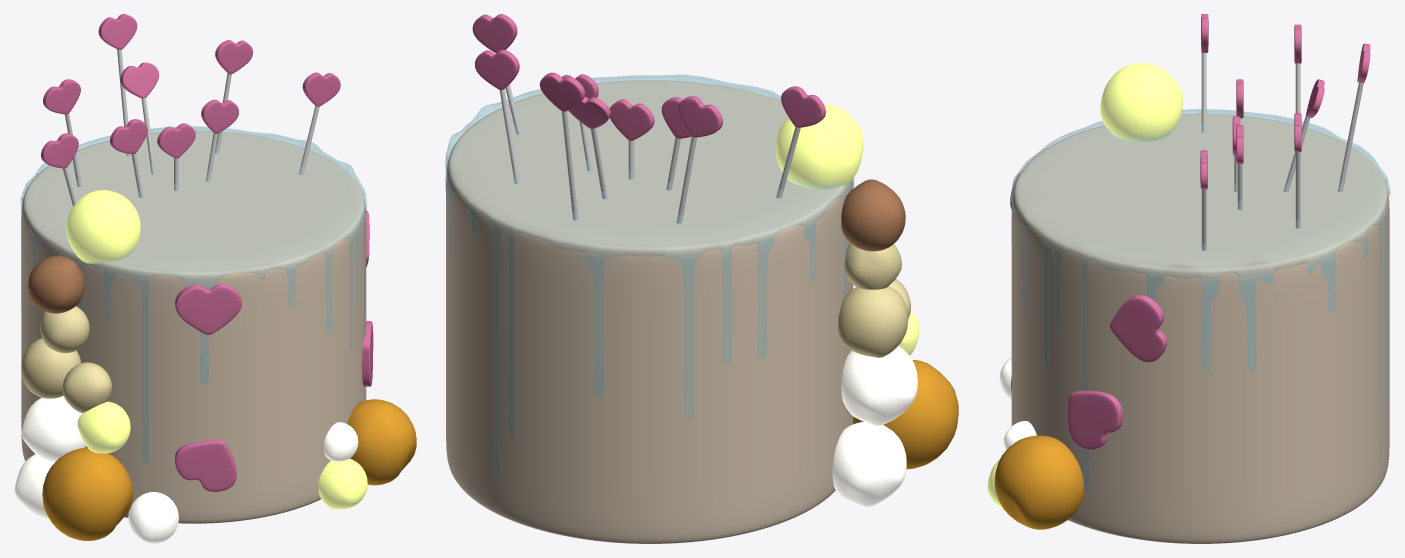
The model's file is Cake_Layer_1_Cream_Topper1_Hearts_BlueDrip.glb.
3 views of the same model, side by side, from view 1: azimuth 30°, elevation 25°; view 2: azimuth 150°, elevation 25°; view 3: azimuth 270°, elevation 25° (orthographic). The views are drawn at different scales.
Visible parts, largest first — view 1: Circle, Circle.001, Sphere, Sphere.015, Sphere.026, Sphere.002, Sphere.006, Star.003, Star.002, Sphere.005, Sphere.003, Sphere.001 (+15 smaller); view 2: Circle, Circle.001, Sphere.015, Sphere.013, Sphere.002, Sphere, Sphere.005, Sphere.006, Sphere.010, Star.006, Star.005, Star.009 (+6 smaller); view 3: Circle, Circle.001, Sphere.026, Sphere.015, Star.001, Star.004, Cylinder.049, Sphere.027.
Part boxes in pixels (x1,y1,x2,y2): Circle: (21,130,366,523); Circle.001: (21,126,366,463); Sphere: (42,448,132,540); Sphere.015: (66,190,140,263); Sphere.026: (347,399,416,485); Sphere.002: (21,396,85,462); Sphere.006: (28,256,84,313); Star.003: (175,284,241,334); Star.002: (175,439,236,491); Sphere.005: (21,338,80,398); Sphere.003: (77,401,130,453); Sphere.001: (128,492,178,543); Circle: (446,80,853,543); Circle.001: (445,75,853,482); Sphere.015: (775,104,863,189); Sphere.013: (832,421,906,507); Sphere.002: (841,346,917,426); Sphere: (853,360,958,469); Sphere.005: (838,286,908,357); Sphere.006: (841,179,905,251); Sphere.010: (844,242,901,289); Star.006: (678,96,722,137); Star.005: (781,86,825,127); Star.009: (475,49,519,90); Circle: (1011,113,1389,543); Circle.001: (1011,109,1390,490); Sphere.026: (994,435,1084,529); Sphere.015: (1100,63,1182,142); Star.001: (1110,295,1167,362); Star.004: (1068,390,1123,449); Cylinder.049: (1338,82,1363,191); Sphere.027: (1003,421,1036,450).
Bounding box in the file's own units: 0.1763 × 0.1867 × 0.159.
